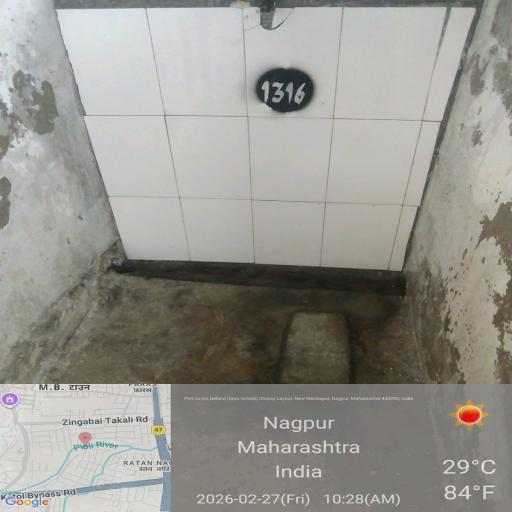clean_floor: (70, 20, 423, 260)
dirty_floor: (68, 254, 435, 396)
